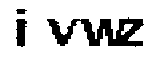i: (11, 4, 35, 53)
v: (44, 15, 79, 49)
w: (81, 16, 123, 50)
z: (123, 19, 150, 52)
